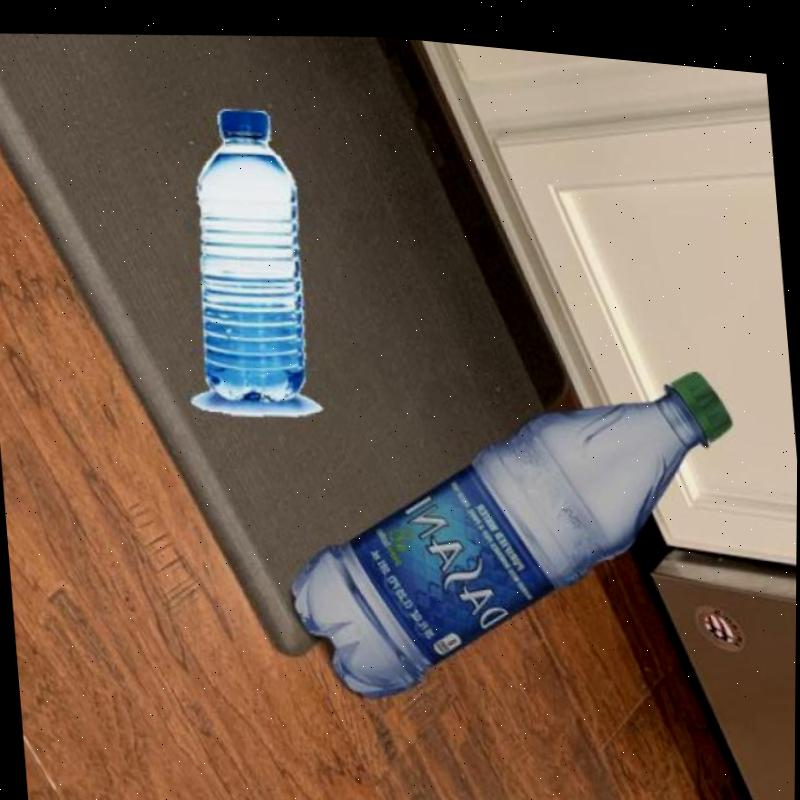botella: (271, 325, 758, 726), (182, 97, 315, 401)
